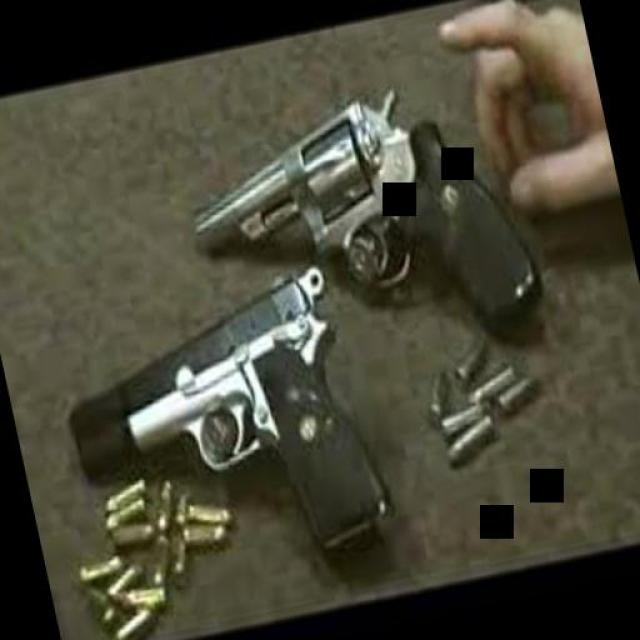gun: (164, 59, 548, 388), (42, 248, 402, 588)
